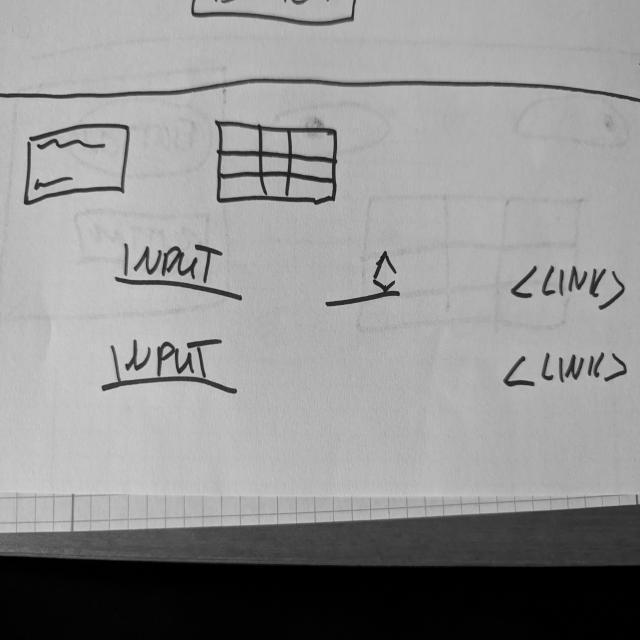input: (102, 334, 241, 399), (113, 238, 247, 305)
number-input: (509, 263, 629, 315), (325, 249, 404, 311)
table: (214, 119, 341, 209)
textarea: (23, 121, 135, 208)
